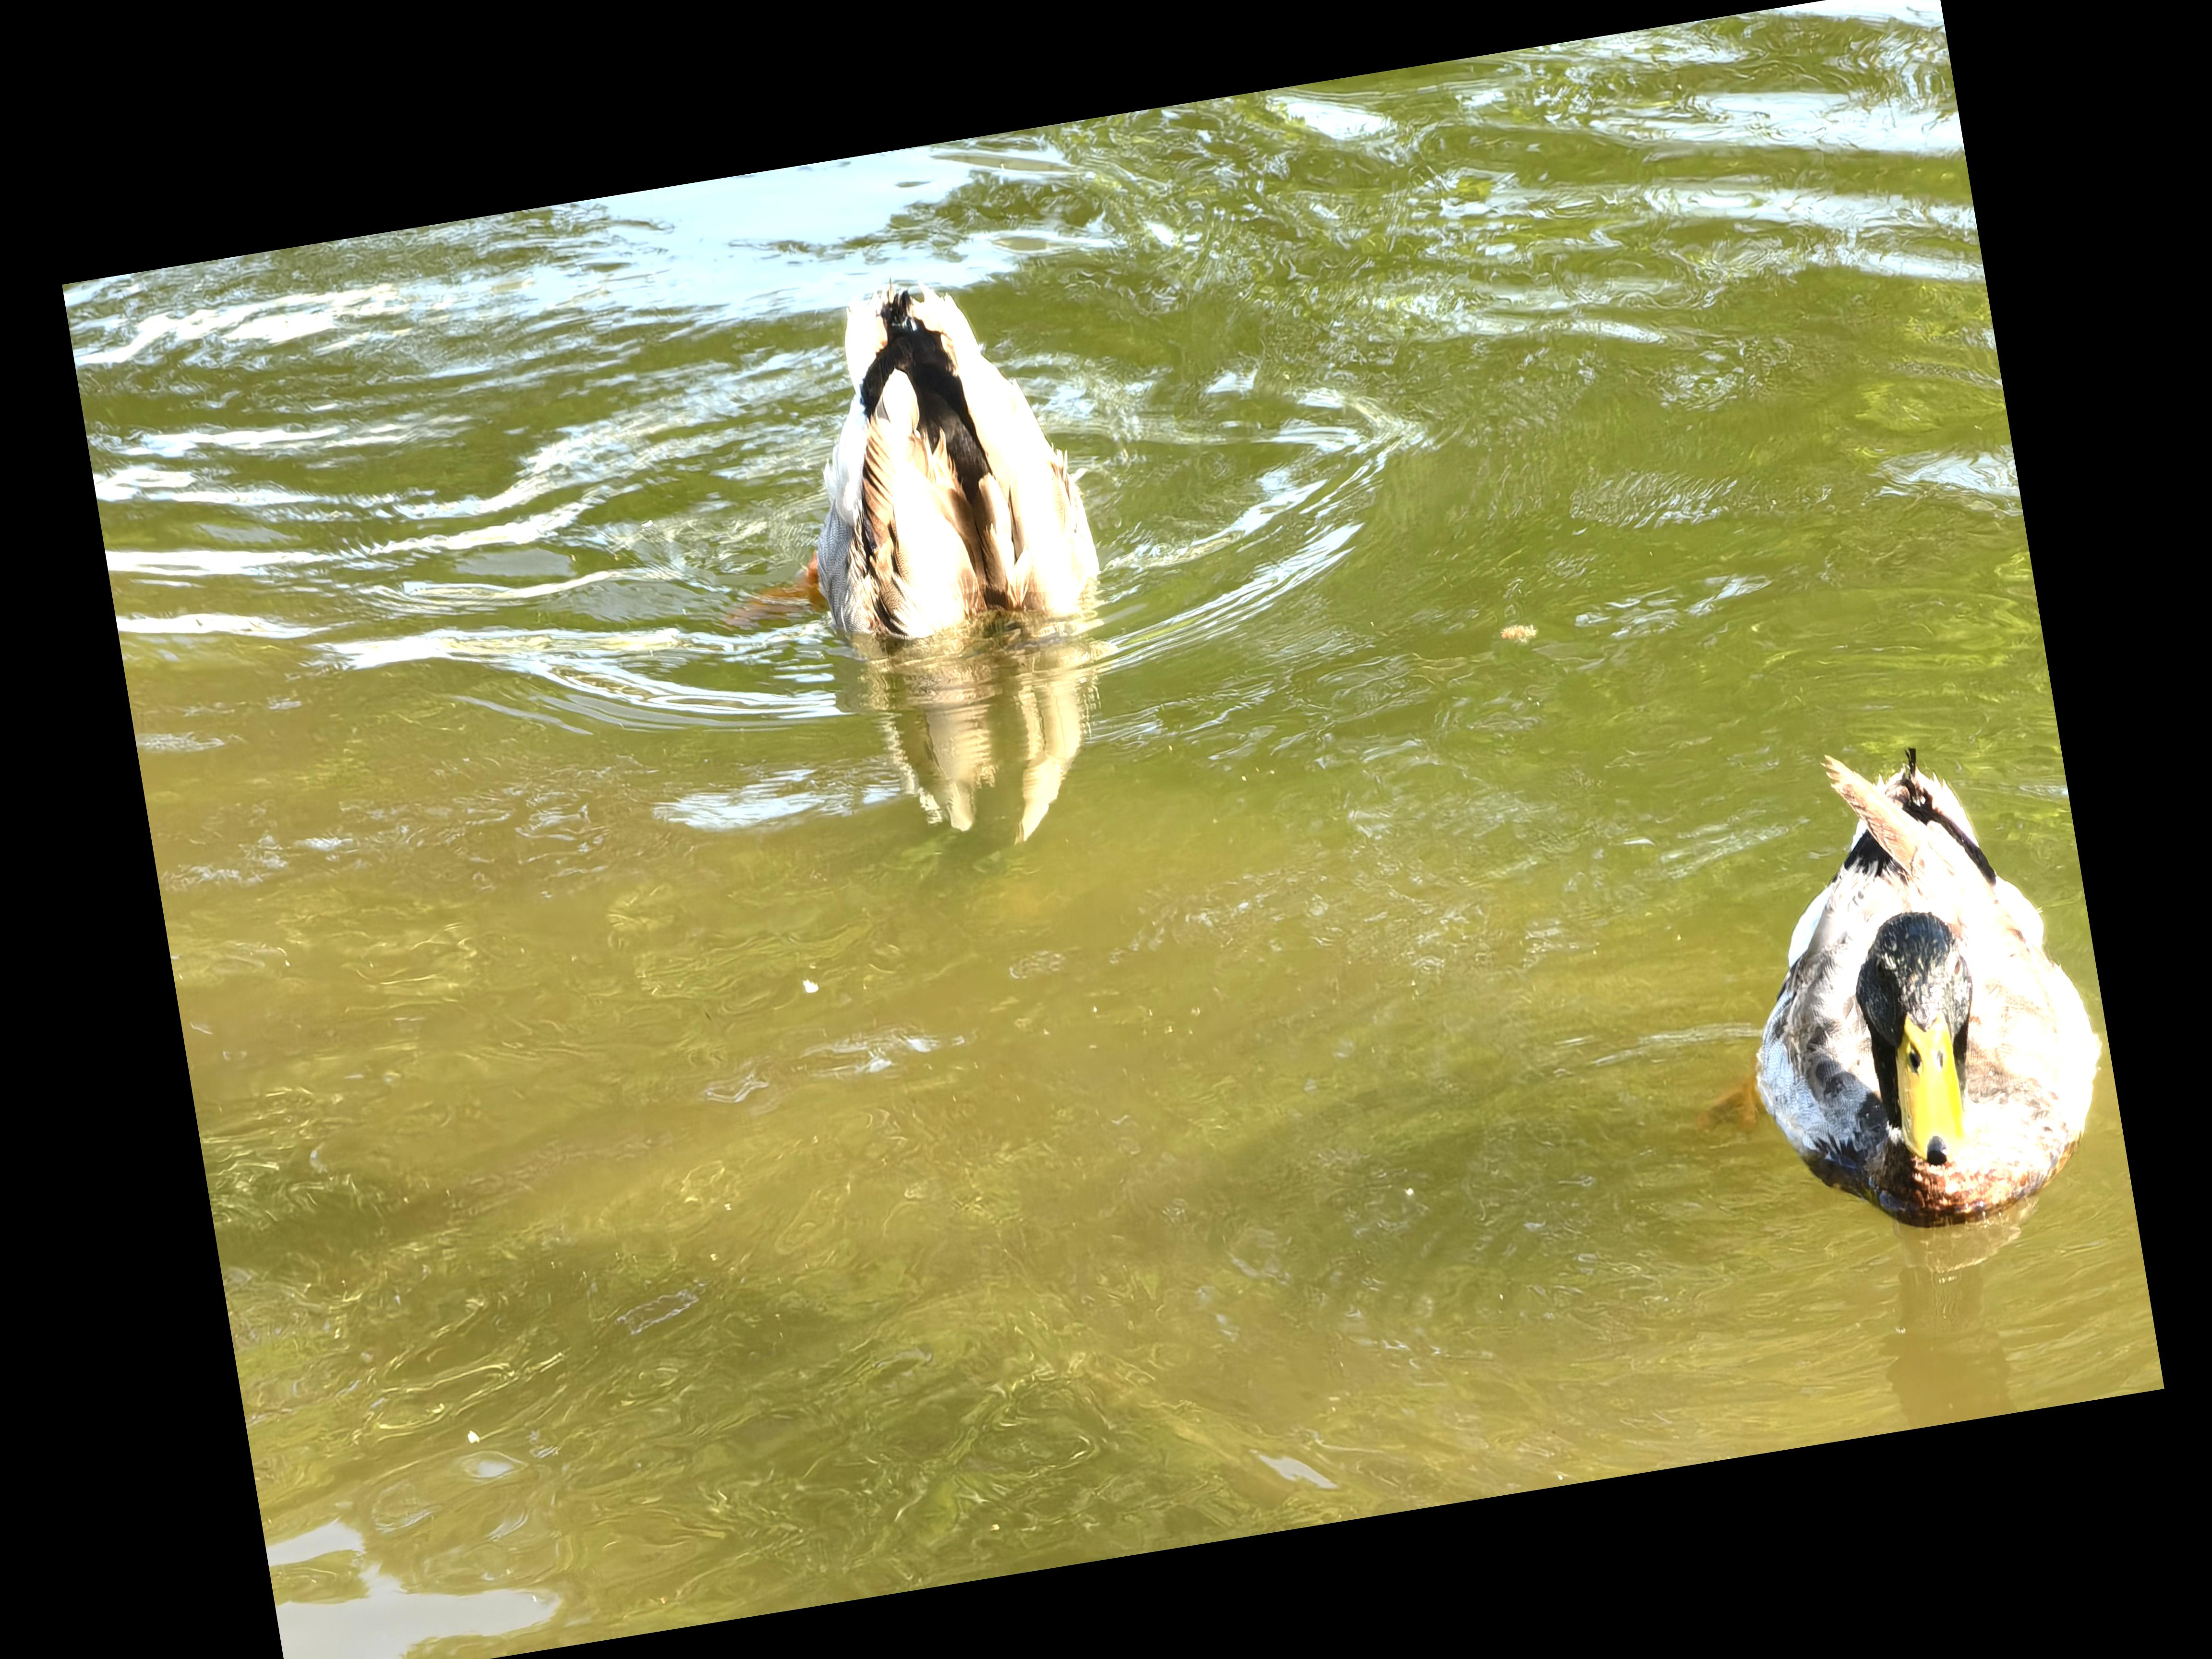duck: (1642, 699, 2144, 1330), (660, 225, 1158, 699)
